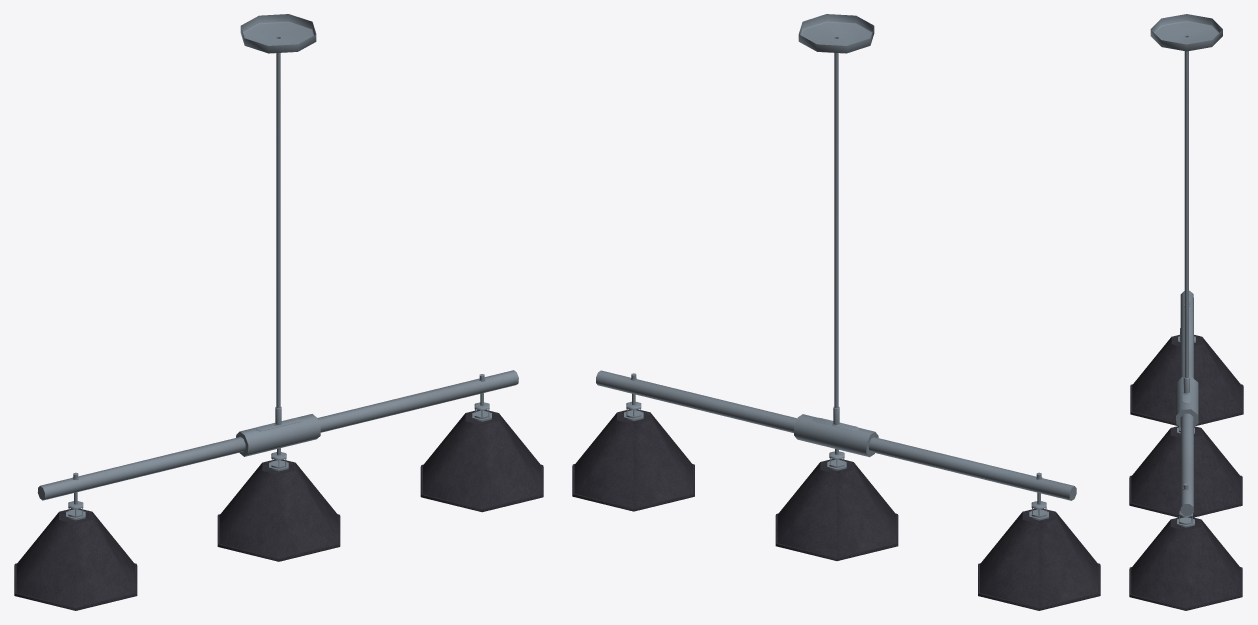
The model's file is Lights_Overhead_1.fbx.
The picture shows the model from 3 angles, left to right: view 1: azimuth 30°, elevation 25°; view 2: azimuth 150°, elevation 25°; view 3: azimuth 270°, elevation 25°; orthographic projection. The views are drawn at different scales.
Parts seen in each view (by area): view 1: Cylinder.106; view 2: Cylinder.106; view 3: Cylinder.106.
Part boxes in pixels (bbox=[...]): Cylinder.106: bbox=[14, 14, 543, 610]; Cylinder.106: bbox=[572, 14, 1100, 610]; Cylinder.106: bbox=[1129, 14, 1243, 610].
Bounding box in the file's own units: 147 × 134 × 29.85.
